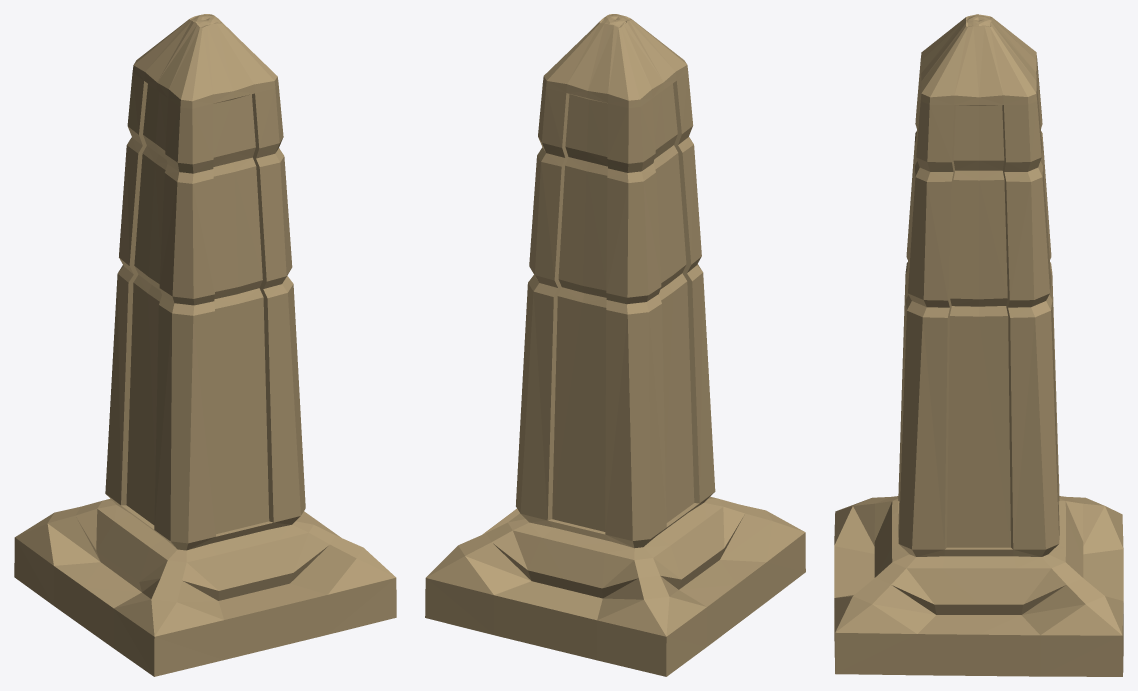
The model's file is Obelisk_Koltz_4_V1.fbx.
3 views of the same model, side by side, from view 1: azimuth 30°, elevation 25°; view 2: azimuth 150°, elevation 25°; view 3: azimuth 270°, elevation 25° (orthographic). The views are drawn at different scales.
Visible parts, largest first — view 1: Obelisk_4; view 2: Obelisk_4; view 3: Obelisk_4.
Boxes of the visible parts, x1,y1,x2,y2 form: Obelisk_4: (14, 14, 396, 676); Obelisk_4: (425, 14, 805, 676); Obelisk_4: (834, 14, 1123, 676).
Bounding box in the file's own units: 10.06 × 23.26 × 10.07.
